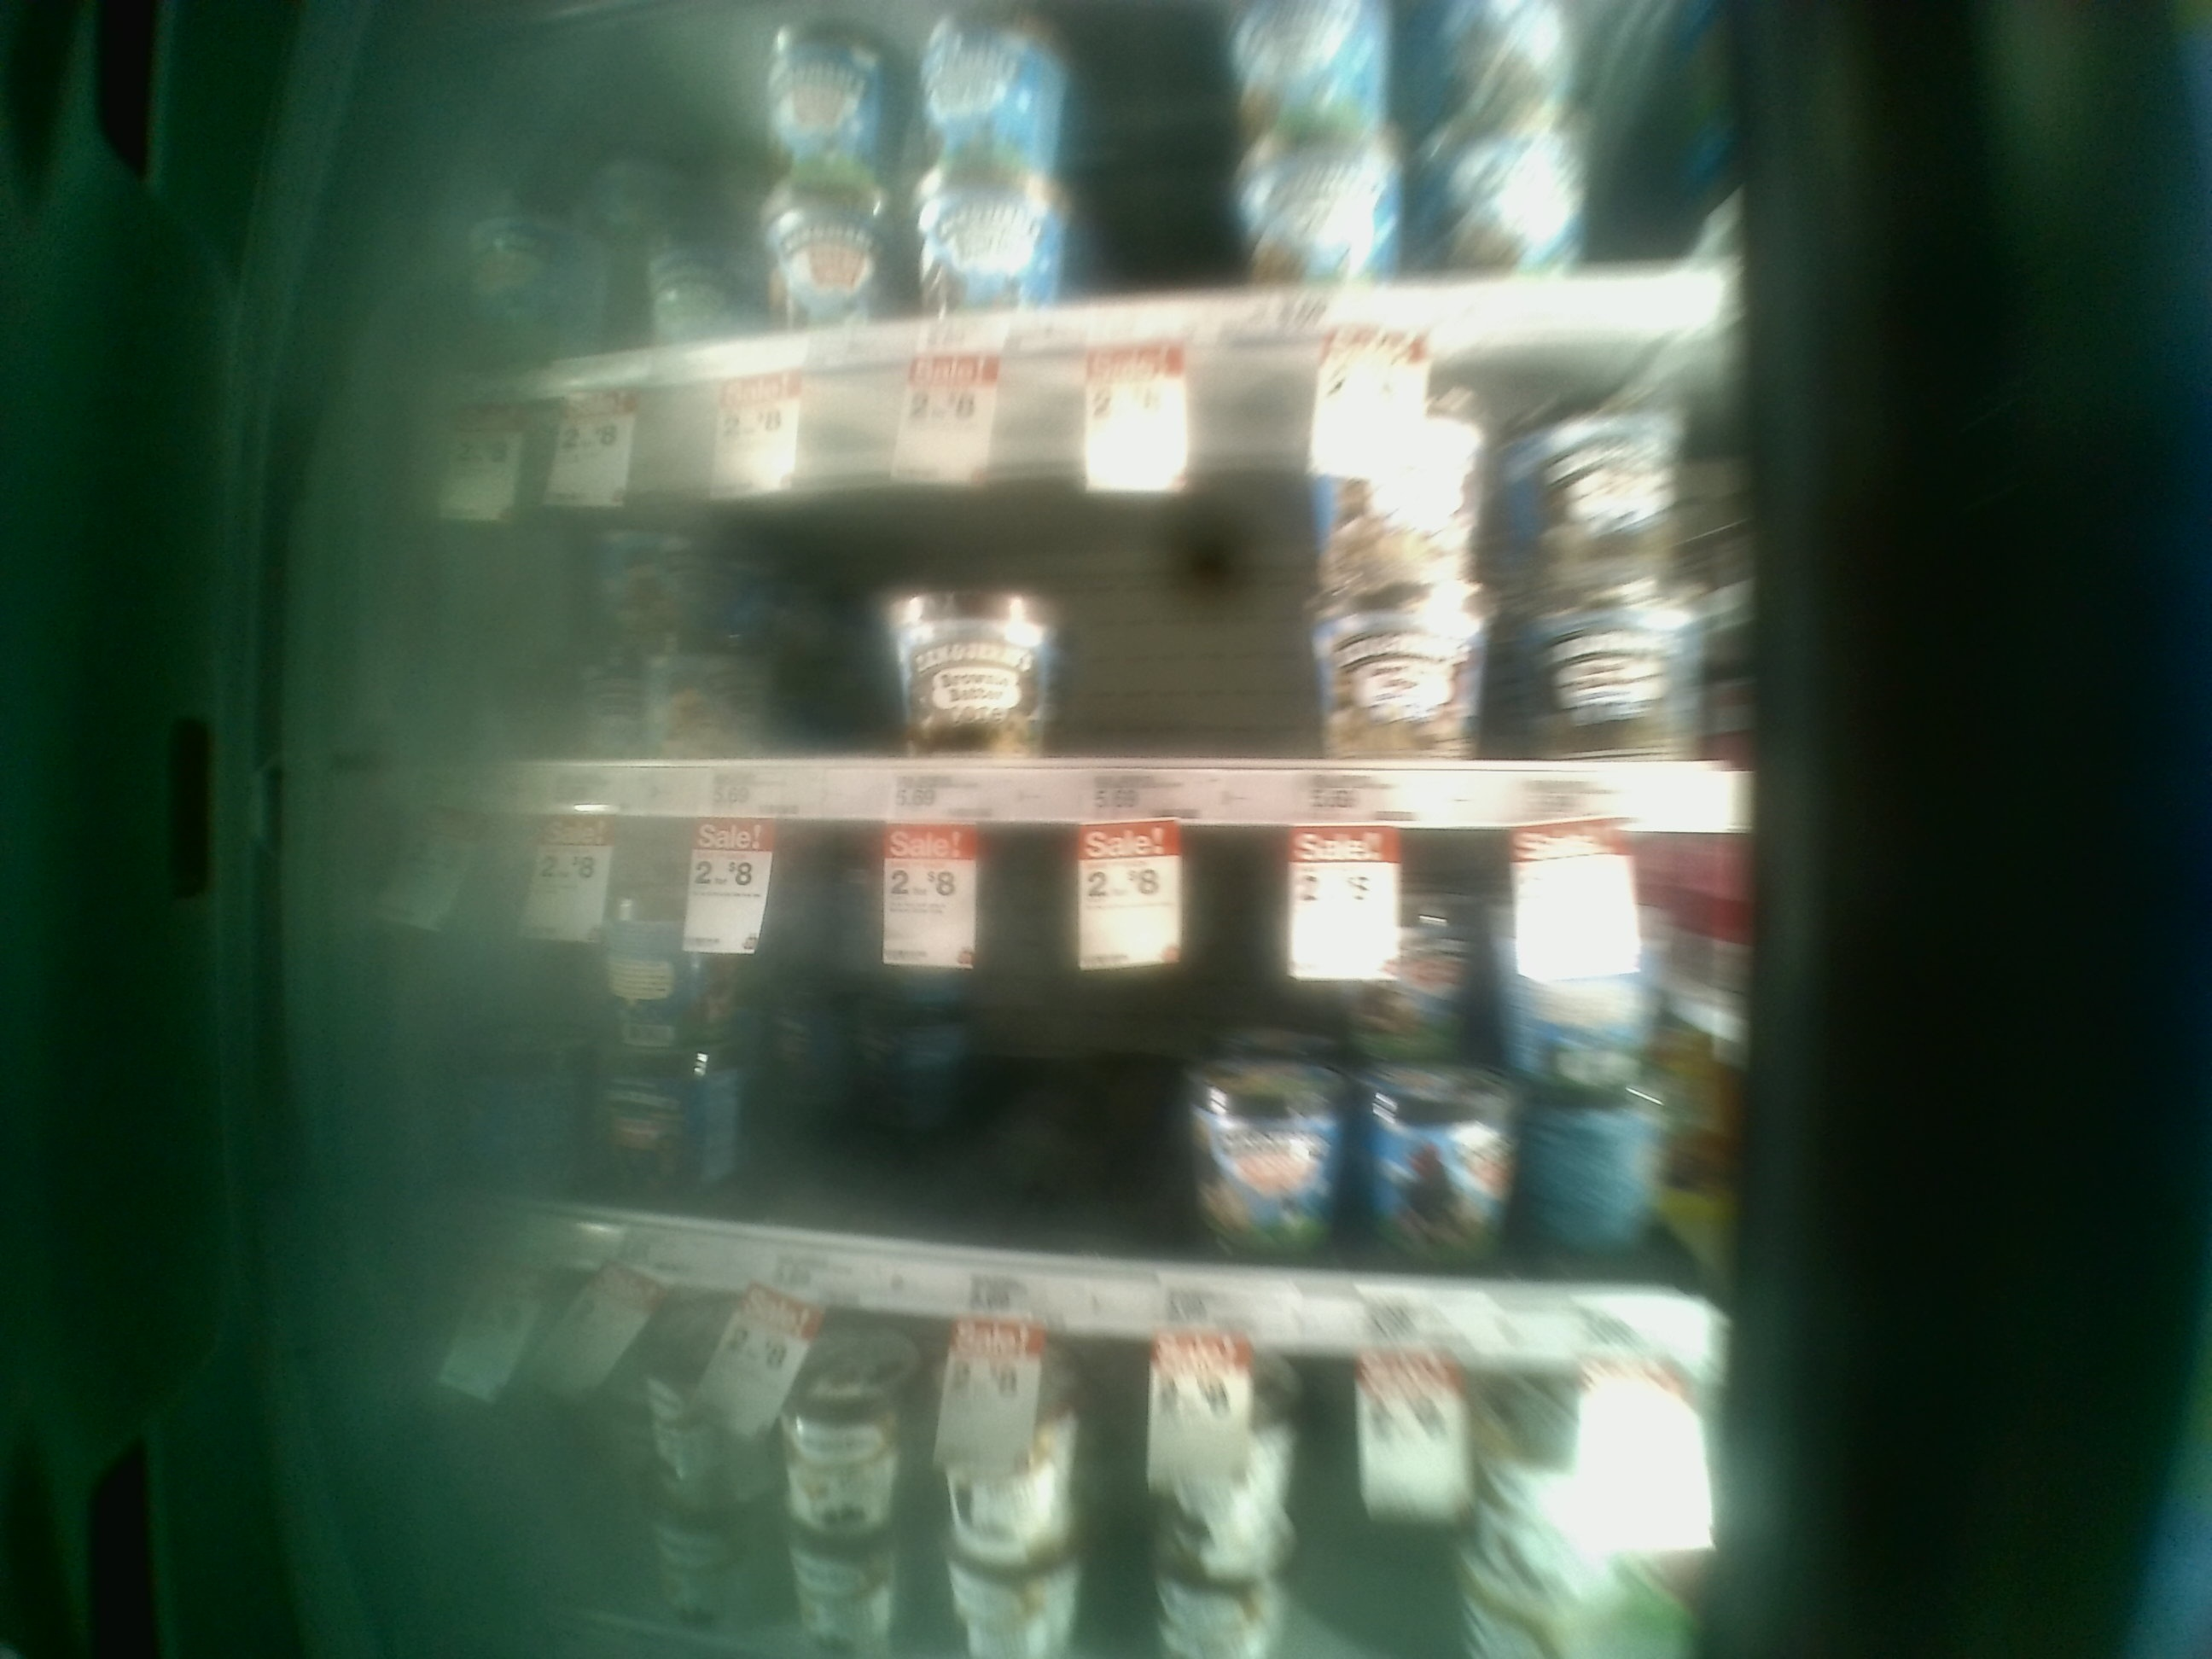shelf: (435, 817, 1726, 1354)
